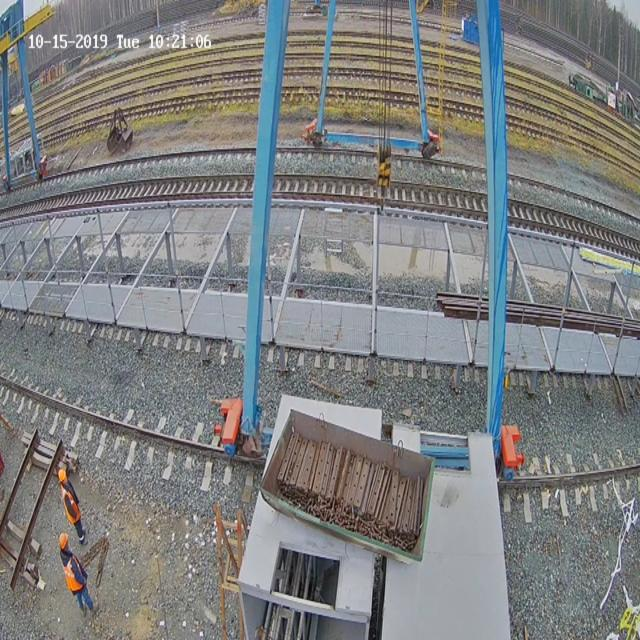Helmet: (59, 532, 68, 551), (58, 469, 66, 483)
Person: (59, 531, 95, 617), (57, 468, 86, 545)
